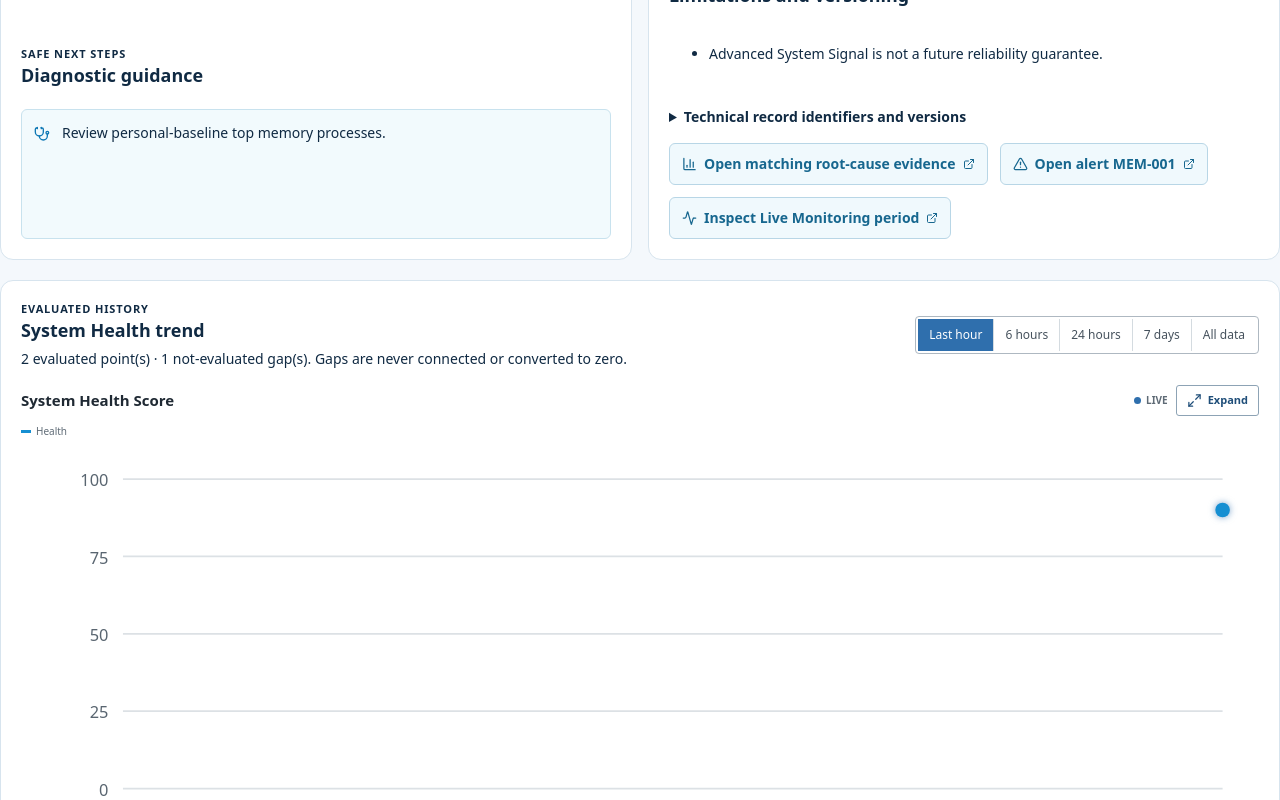
Scenario: SystemHealthDashboard › preserves missing history as a chart gap and supports expansion
(page scrolled)
Click the button "Expand" at point(1217, 401), box [1176, 385, 1259, 416]
(page scrolled)
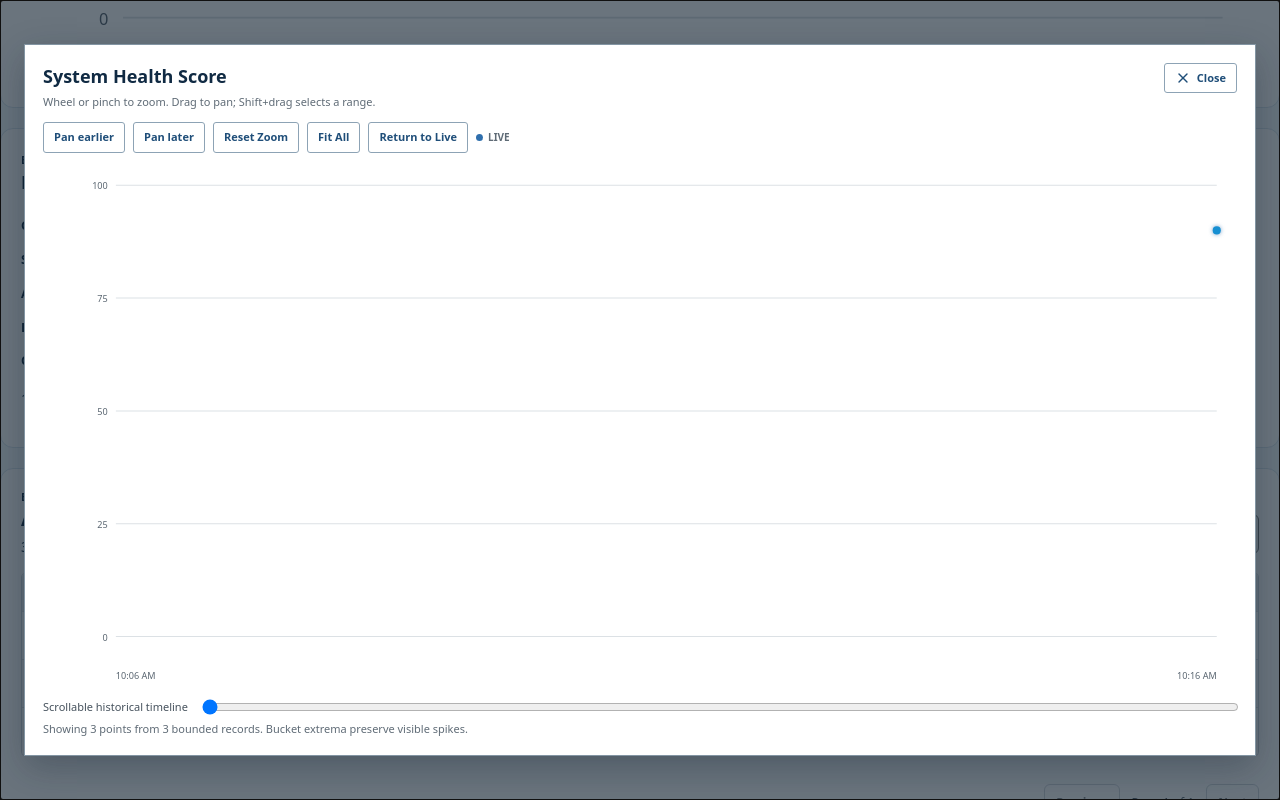
Expected: the text "1 not-evaluated record" is shown, [21, 388, 611, 413]
Expected: the dialog named "System Health Score expanded chart" is shown
